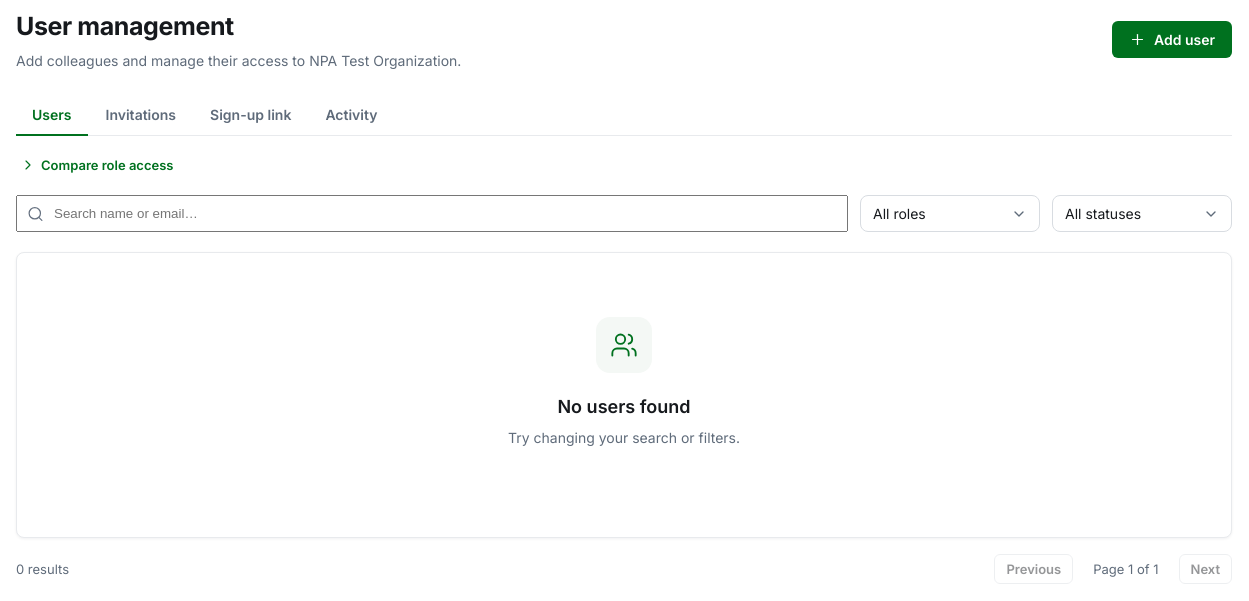
Test: UserManagement › exposes the invitations and audit workspaces as real tabs
The image size is (1249, 601).
Click the tab "Invitations" at coordinates (141, 116), box [90,95,192,136]
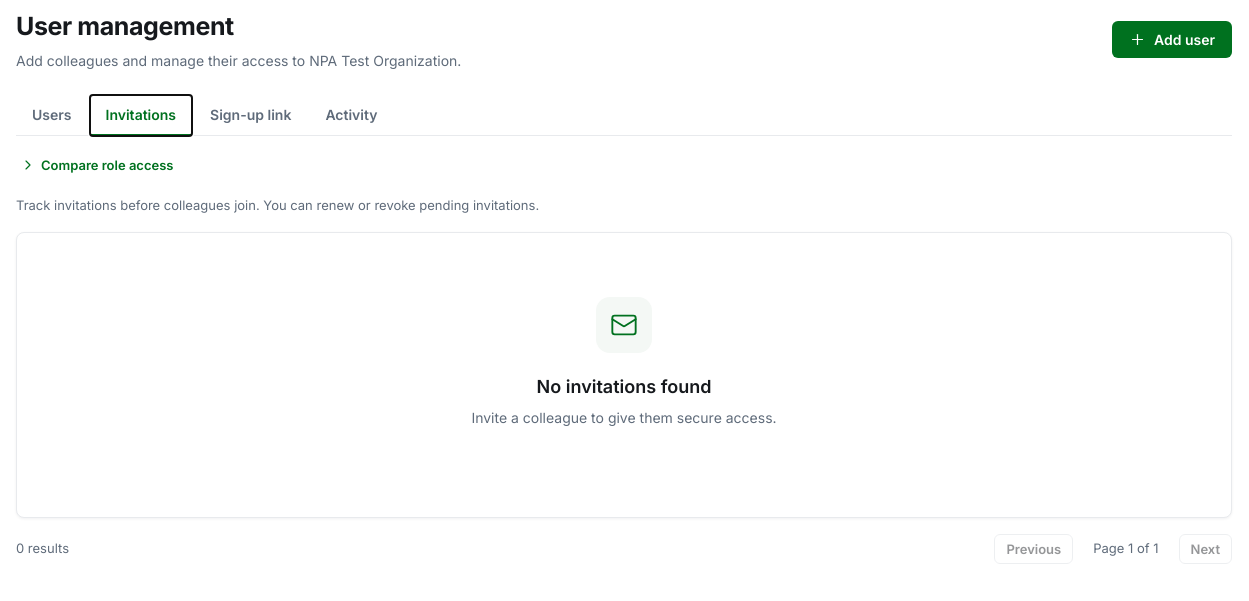
Expected: the heading "No invitations found" is shown, [536,376,711,397]
Click the tab "Activity" at coordinates (351, 116), box [309,95,394,136]
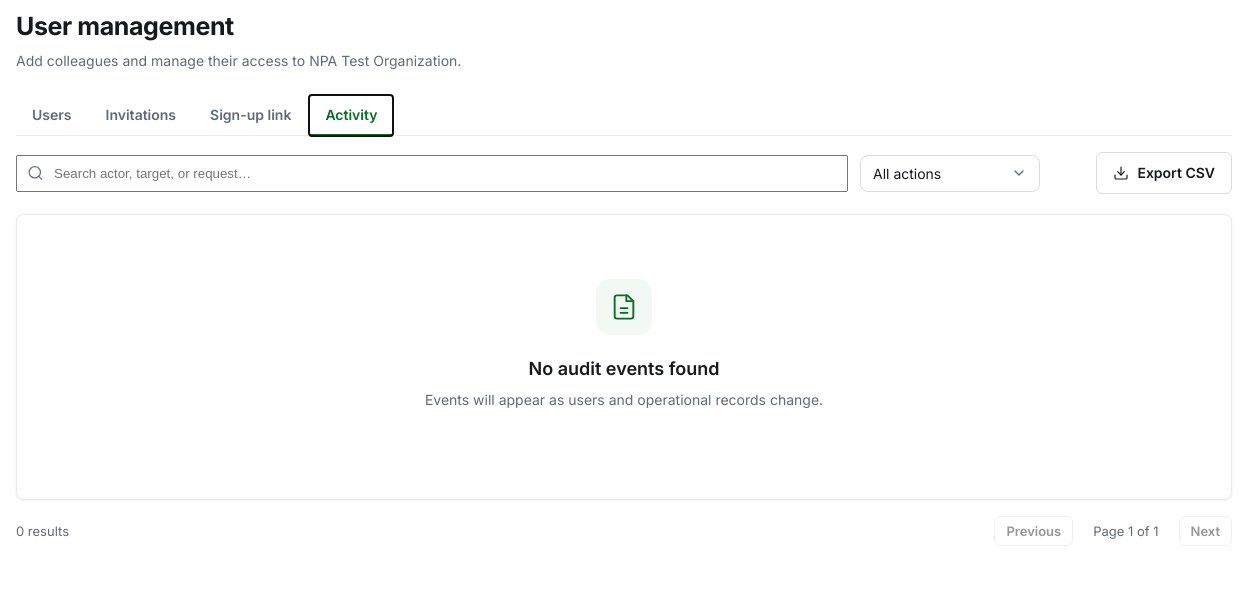
Expected: the heading "No audit events found" is shown, [528,358,720,379]
